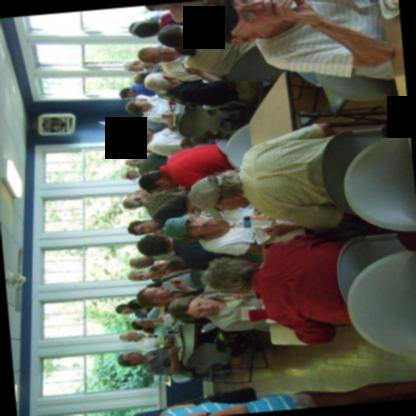handbag: (163, 386, 257, 409)
